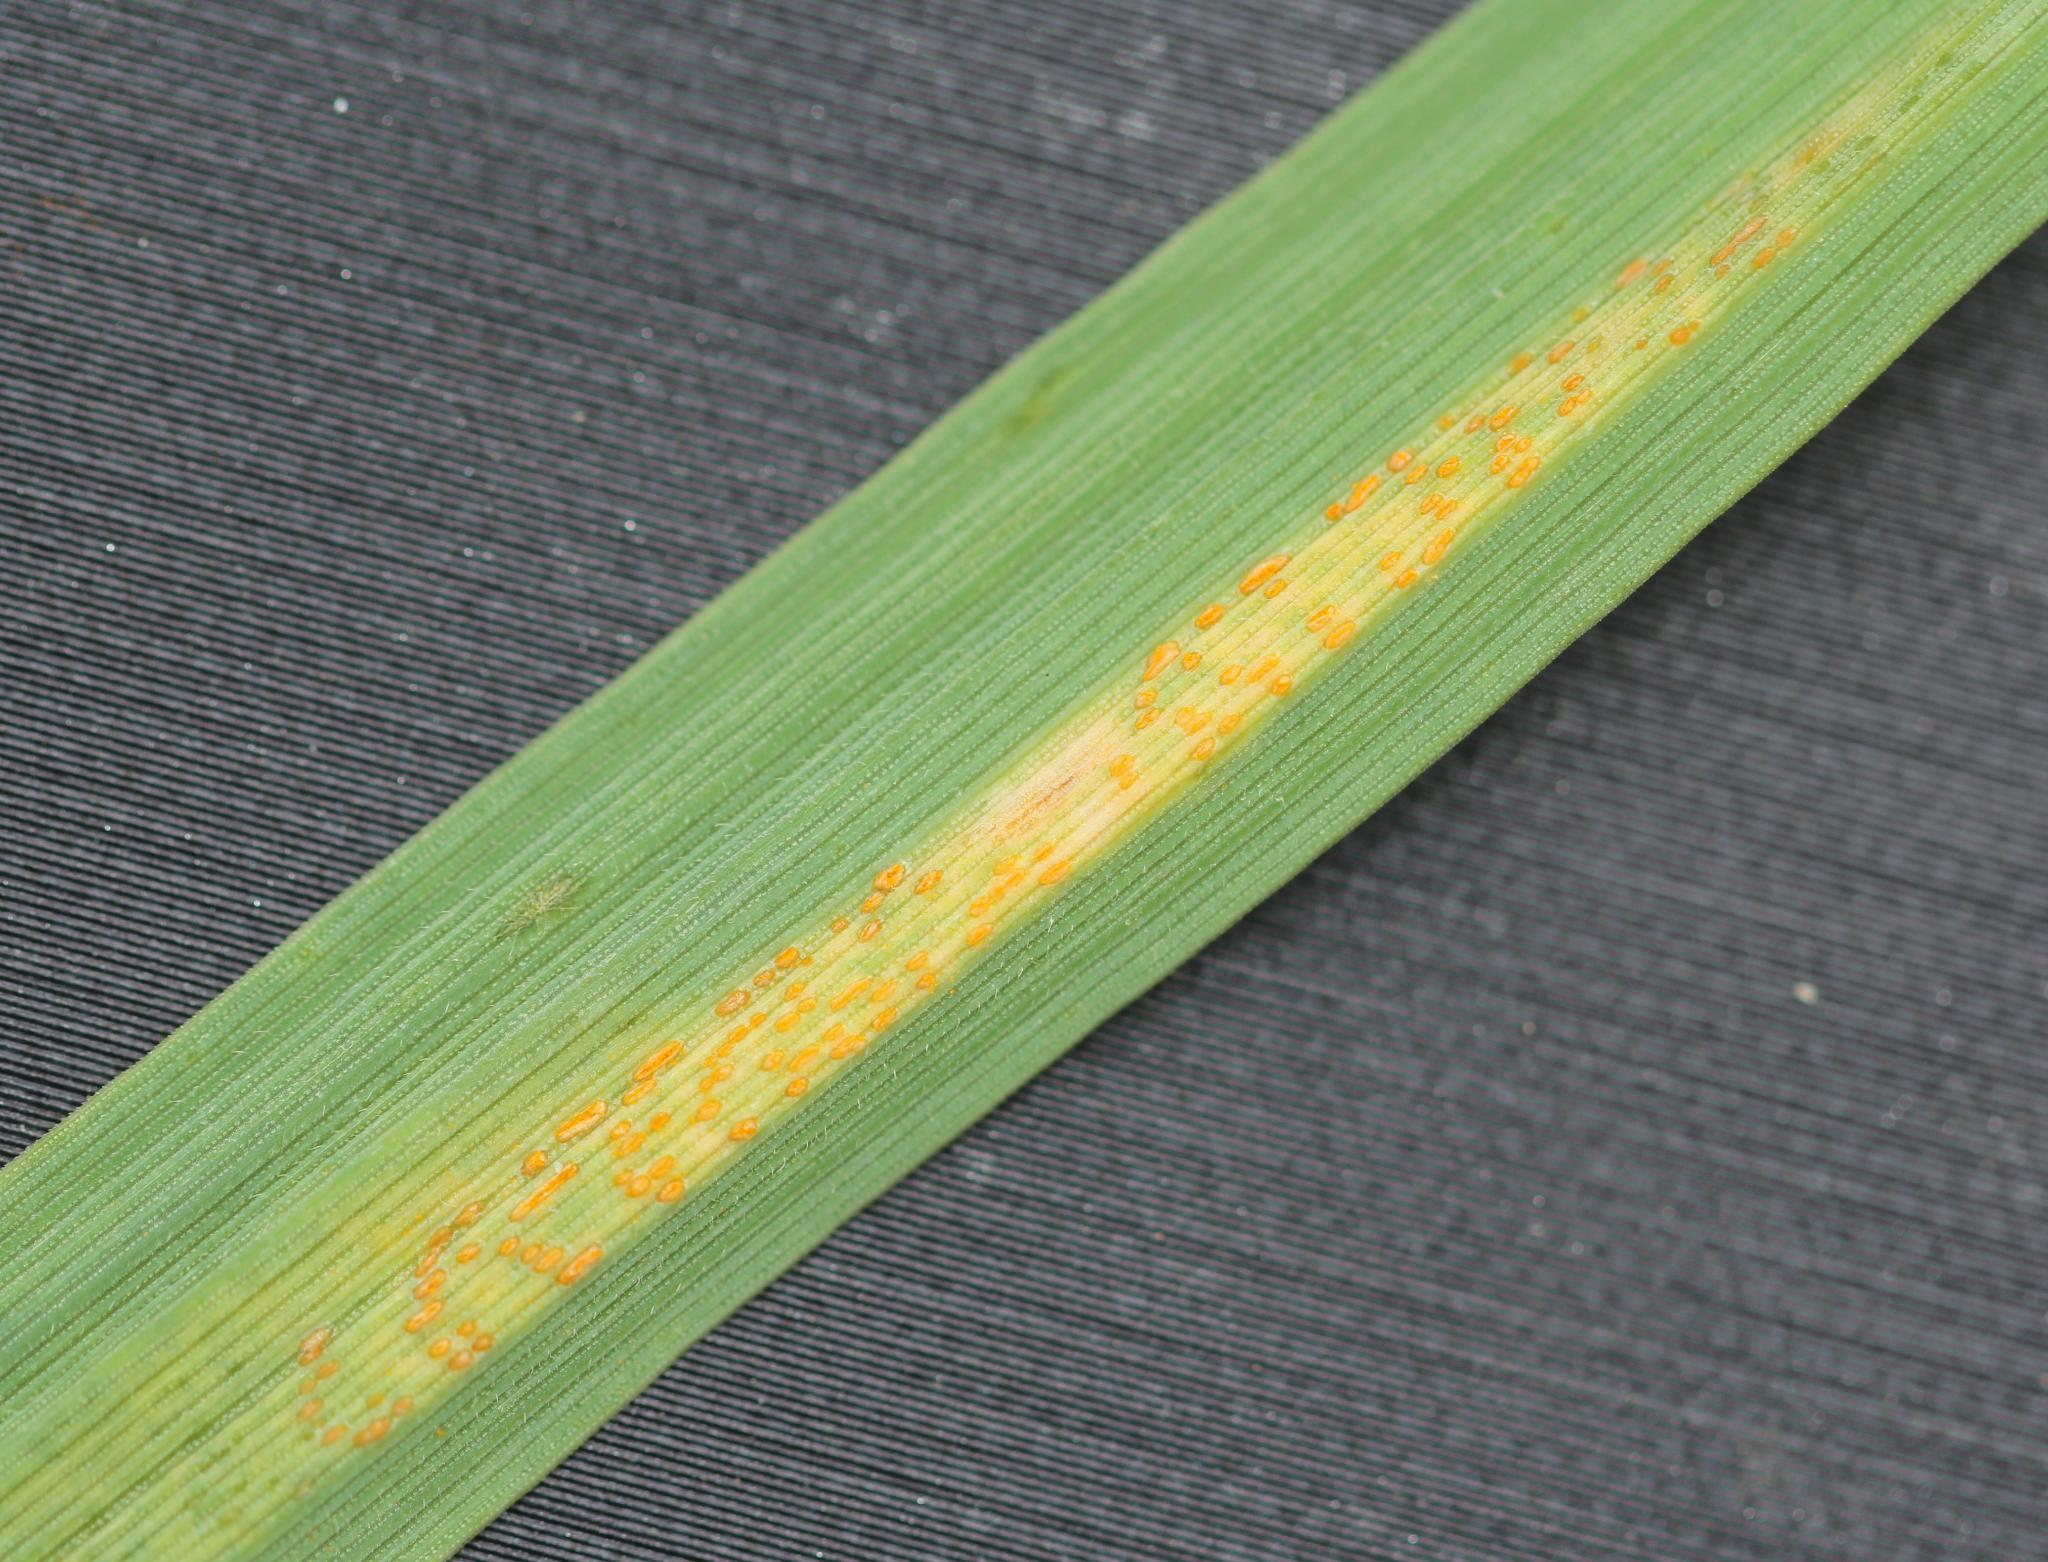Wheat: (261, 174, 1733, 1491)
